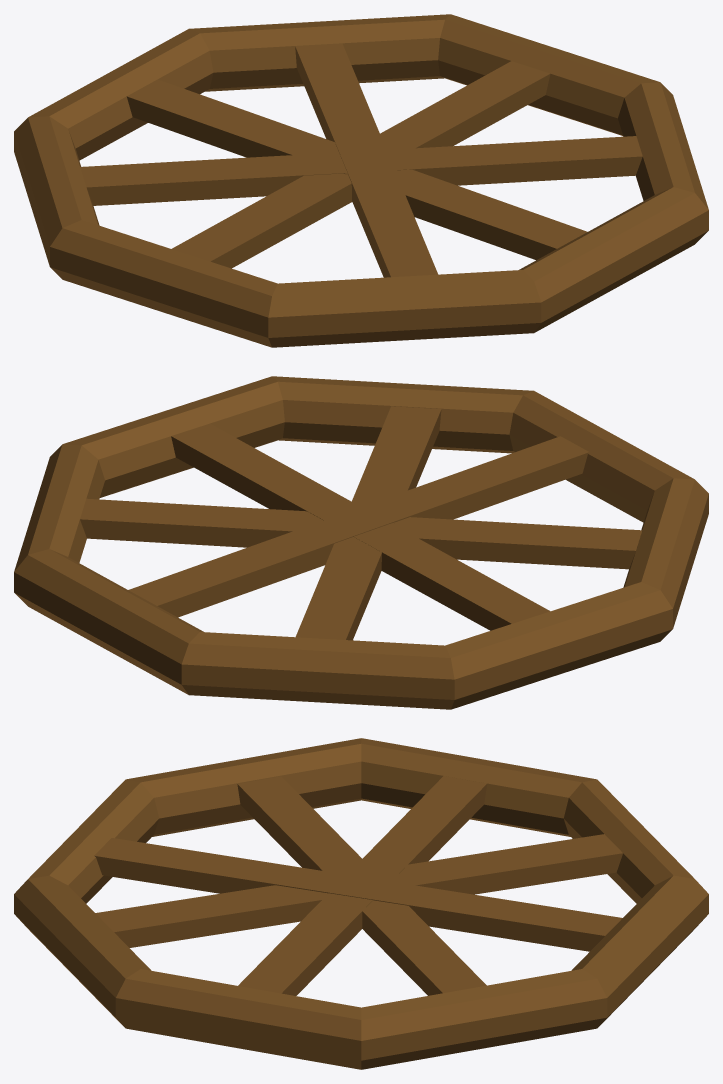
Rendered from Wheel.fbx.
The picture shows the model from 3 angles, top to bottom: view 1: azimuth 30°, elevation 25°; view 2: azimuth 150°, elevation 25°; view 3: azimuth 270°, elevation 25°; orthographic projection. The views are drawn at different scales.
Visible parts, largest first — view 1: pTorus1; view 2: pTorus1; view 3: pTorus1.
Boxes of the visible parts, box(x1,y1,x2,y2) form: pTorus1: box(14, 14, 708, 347); pTorus1: box(14, 376, 708, 709); pTorus1: box(14, 738, 708, 1069).
Size of the model in its own units: 0.2041 by 0.0184 by 0.2041.
